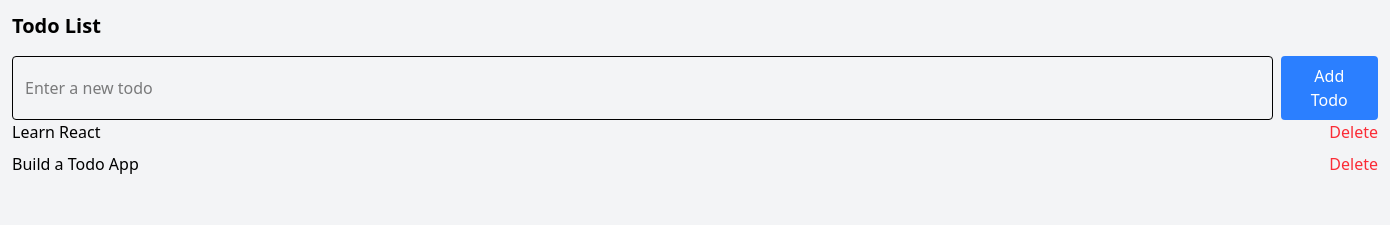
Scenario: TodoList Component › can add a new todo
In the field with placeholder "Enter a new todo": point(642, 88) [12, 56, 1272, 120], type "Write Tests"
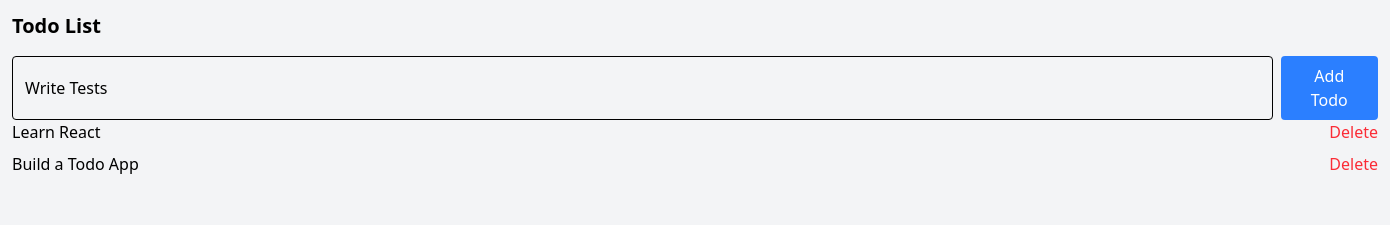
Click the button "Add Todo": point(1329, 88) [1280, 56, 1378, 120]
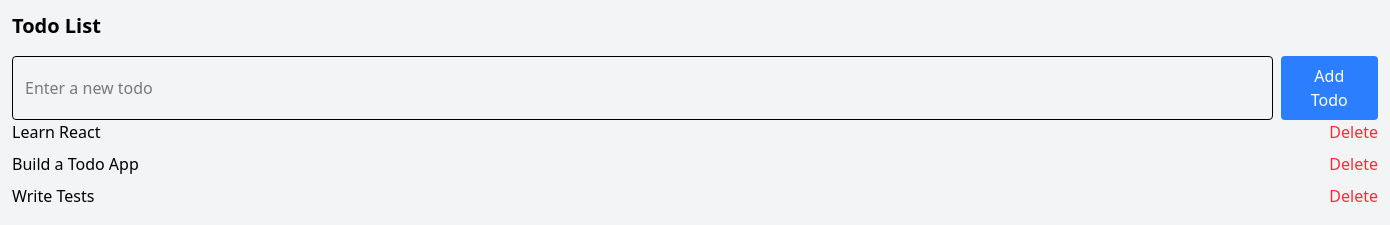
Expected: the text "Write Tests" is shown, [12, 184, 94, 208]
